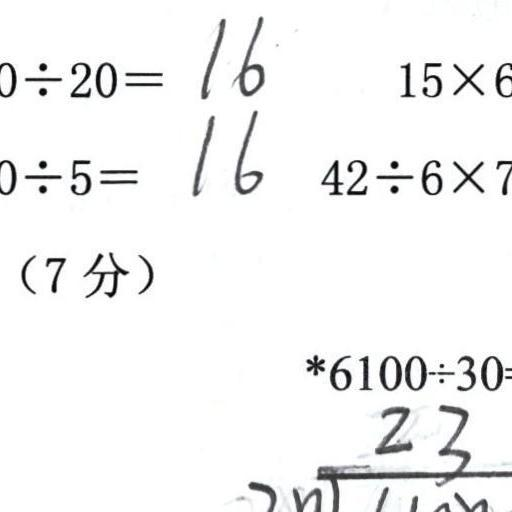ans: (183, 104, 263, 197), (194, 10, 266, 99)
